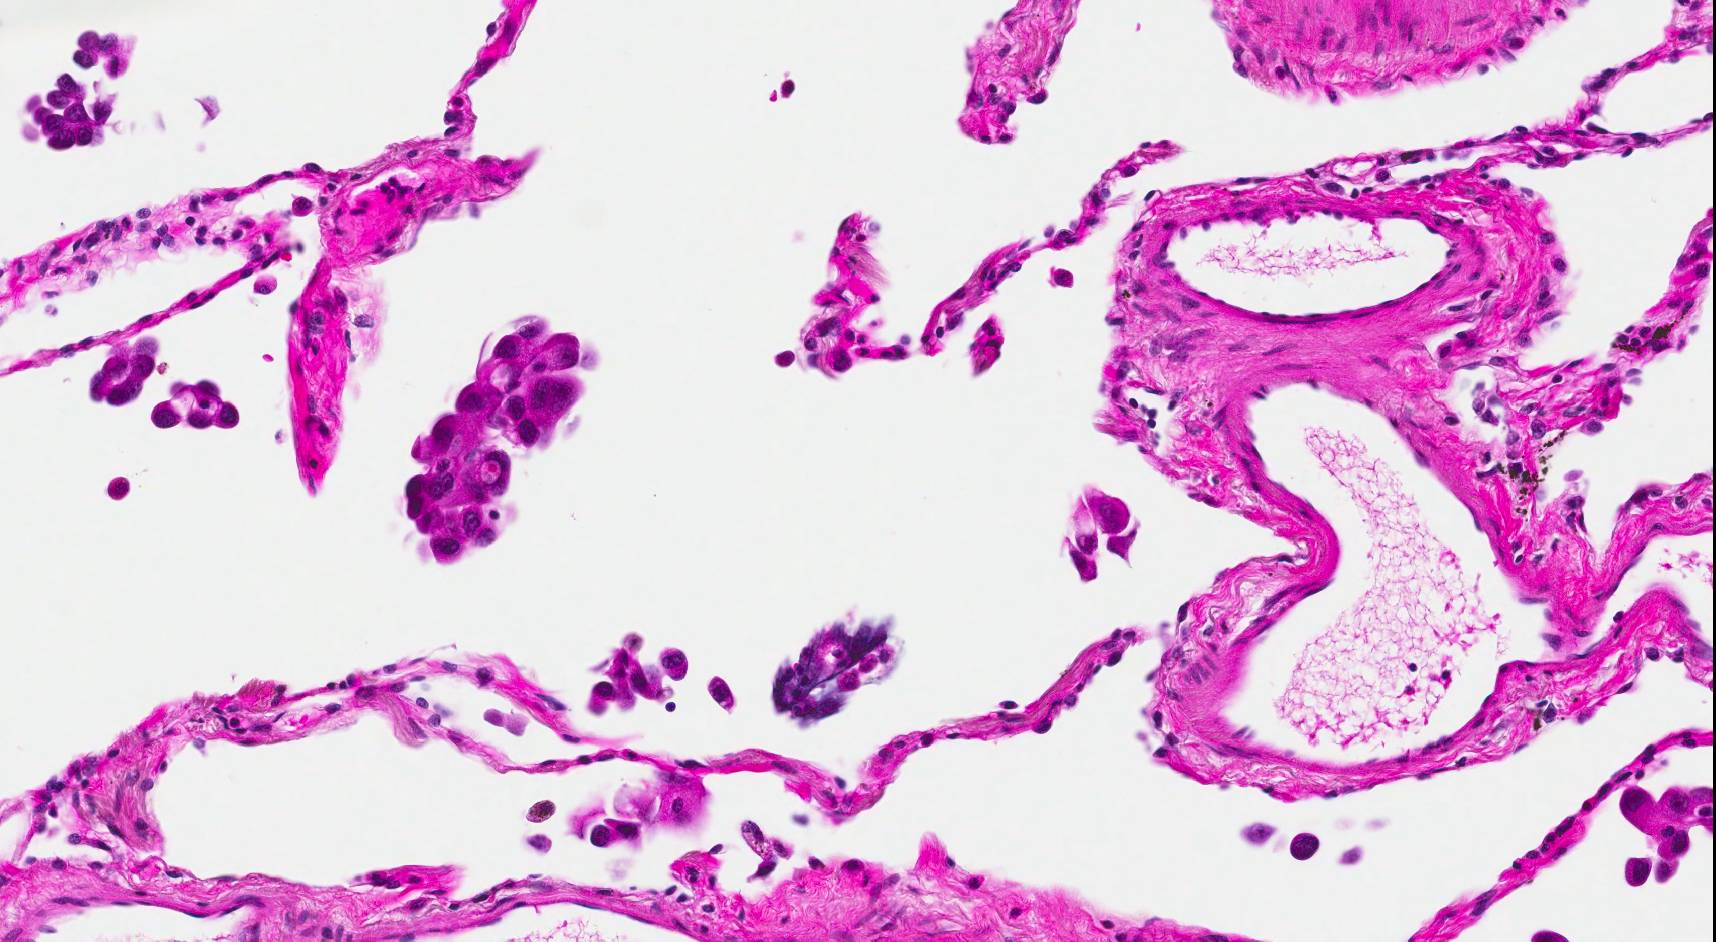stas: (395, 311, 605, 574), (20, 27, 140, 156), (1620, 781, 1716, 897), (579, 628, 694, 722), (1058, 480, 1139, 589), (147, 378, 244, 435), (85, 336, 160, 407)
